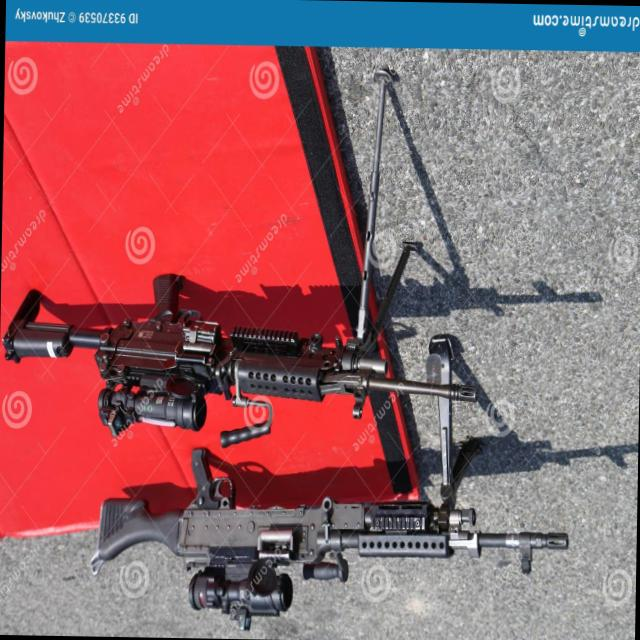Gun: (24, 397, 607, 632), (0, 224, 500, 416)
